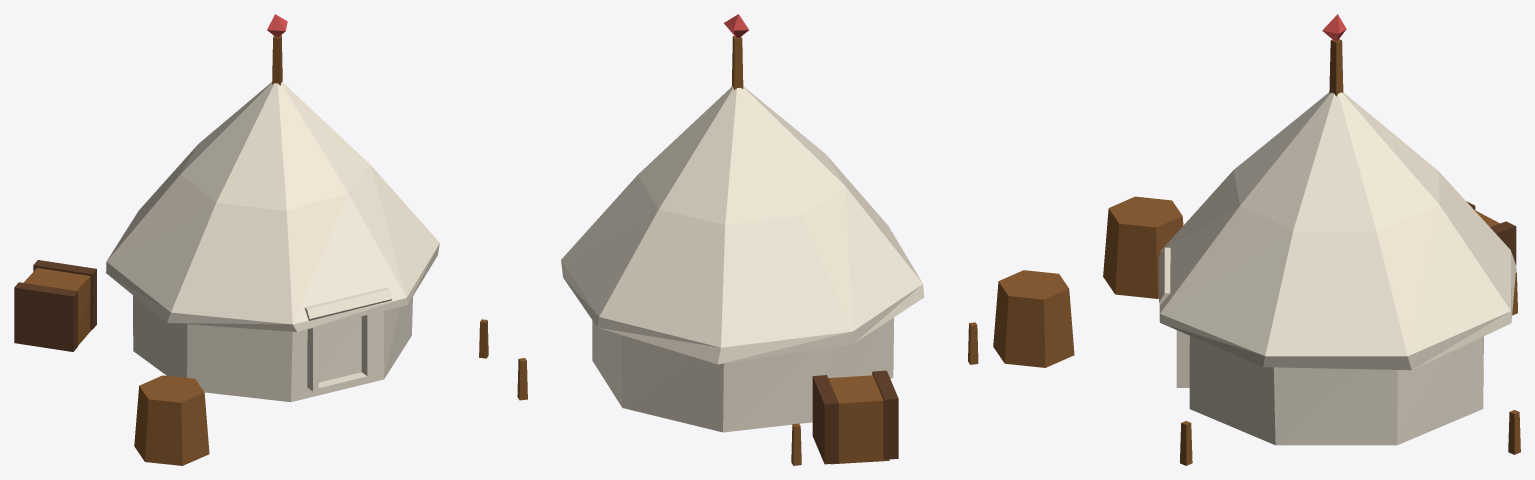
The model's file is tent_b.glb.
3 renders of one model, left to right at view 1: azimuth 30°, elevation 25°; view 2: azimuth 150°, elevation 25°; view 3: azimuth 270°, elevation 25°, orthographic. The views are drawn at different scales.
Parts seen in each view (by area): view 1: tent_b; view 2: tent_b; view 3: tent_b.
Boxes of the visible parts, bbox=[...] form: tent_b: bbox=[14, 14, 488, 465]; tent_b: bbox=[517, 14, 1074, 465]; tent_b: bbox=[1103, 14, 1520, 465].
Size of the model in its own units: 0.754 by 0.644 by 0.6572.
